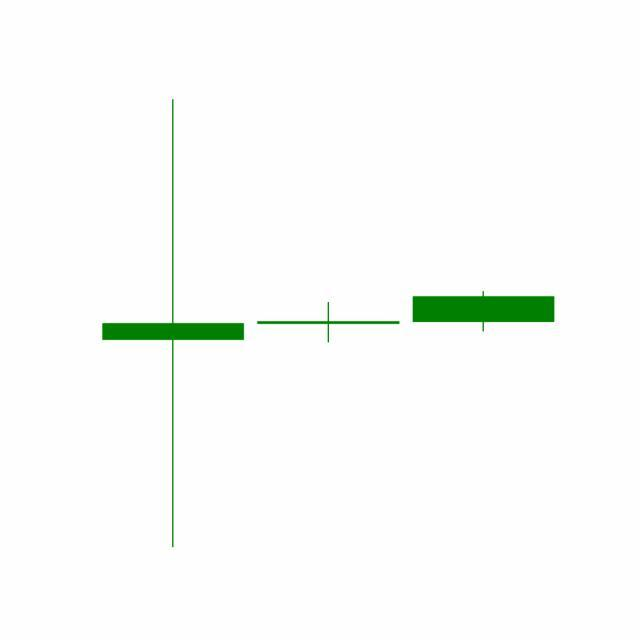Spinning Top: (250, 301, 407, 344)
